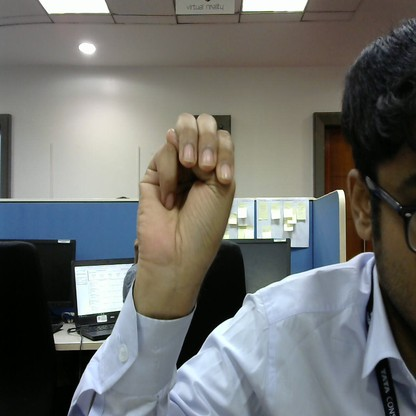m: (126, 102, 241, 296)
